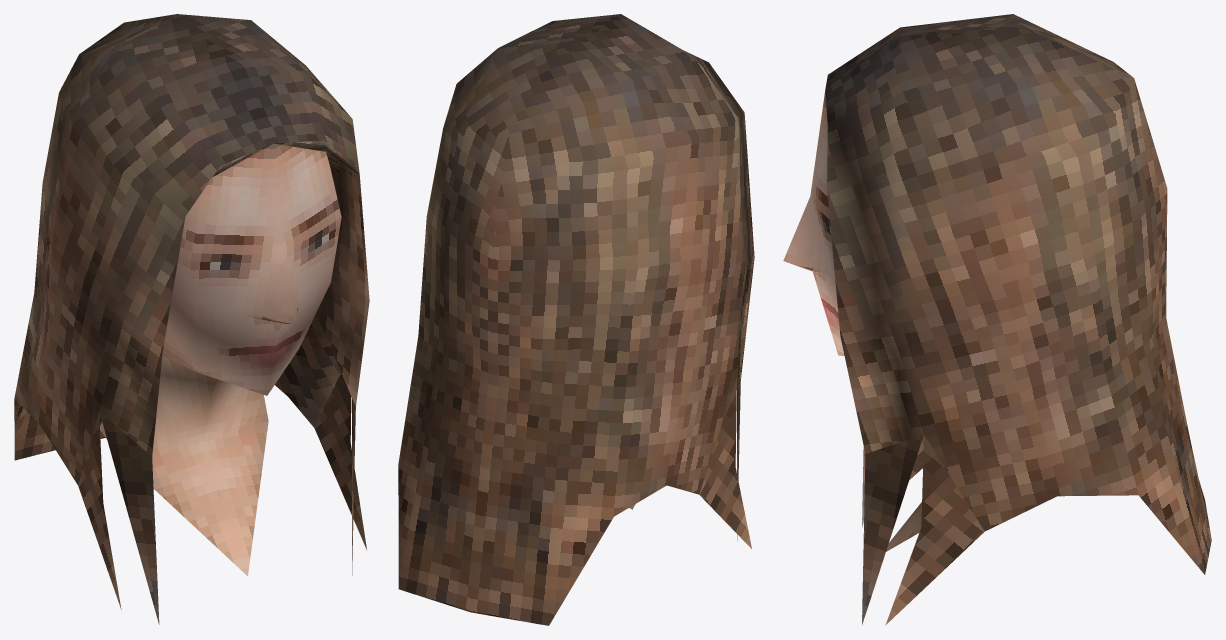
The model's file is heads-female.glb.
3 views of the same model, side by side, from view 1: azimuth 30°, elevation 25°; view 2: azimuth 150°, elevation 25°; view 3: azimuth 270°, elevation 25° (orthographic). The views are drawn at different scales.
Parts seen in each view (by area): view 1: head_f1; view 2: head_f1; view 3: head_f1.
Boxes of the visible parts, x1,y1,x2,y2 form: head_f1: (14, 14, 369, 624); head_f1: (398, 14, 754, 625); head_f1: (783, 14, 1211, 625).
Bounding box in the file's own units: 0.171 × 0.3329 × 0.2357.
Materials: 6 (6 with a texture image).
